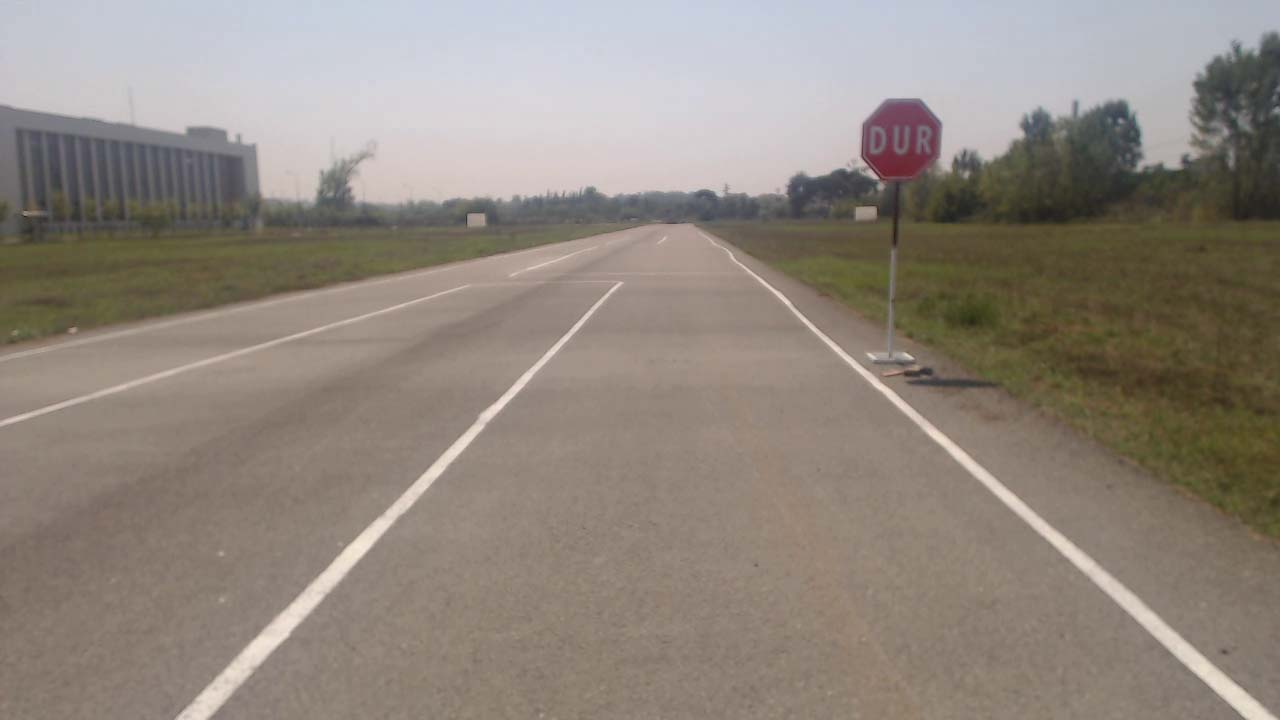arac_dur_isareti: (824, 72, 977, 391)
